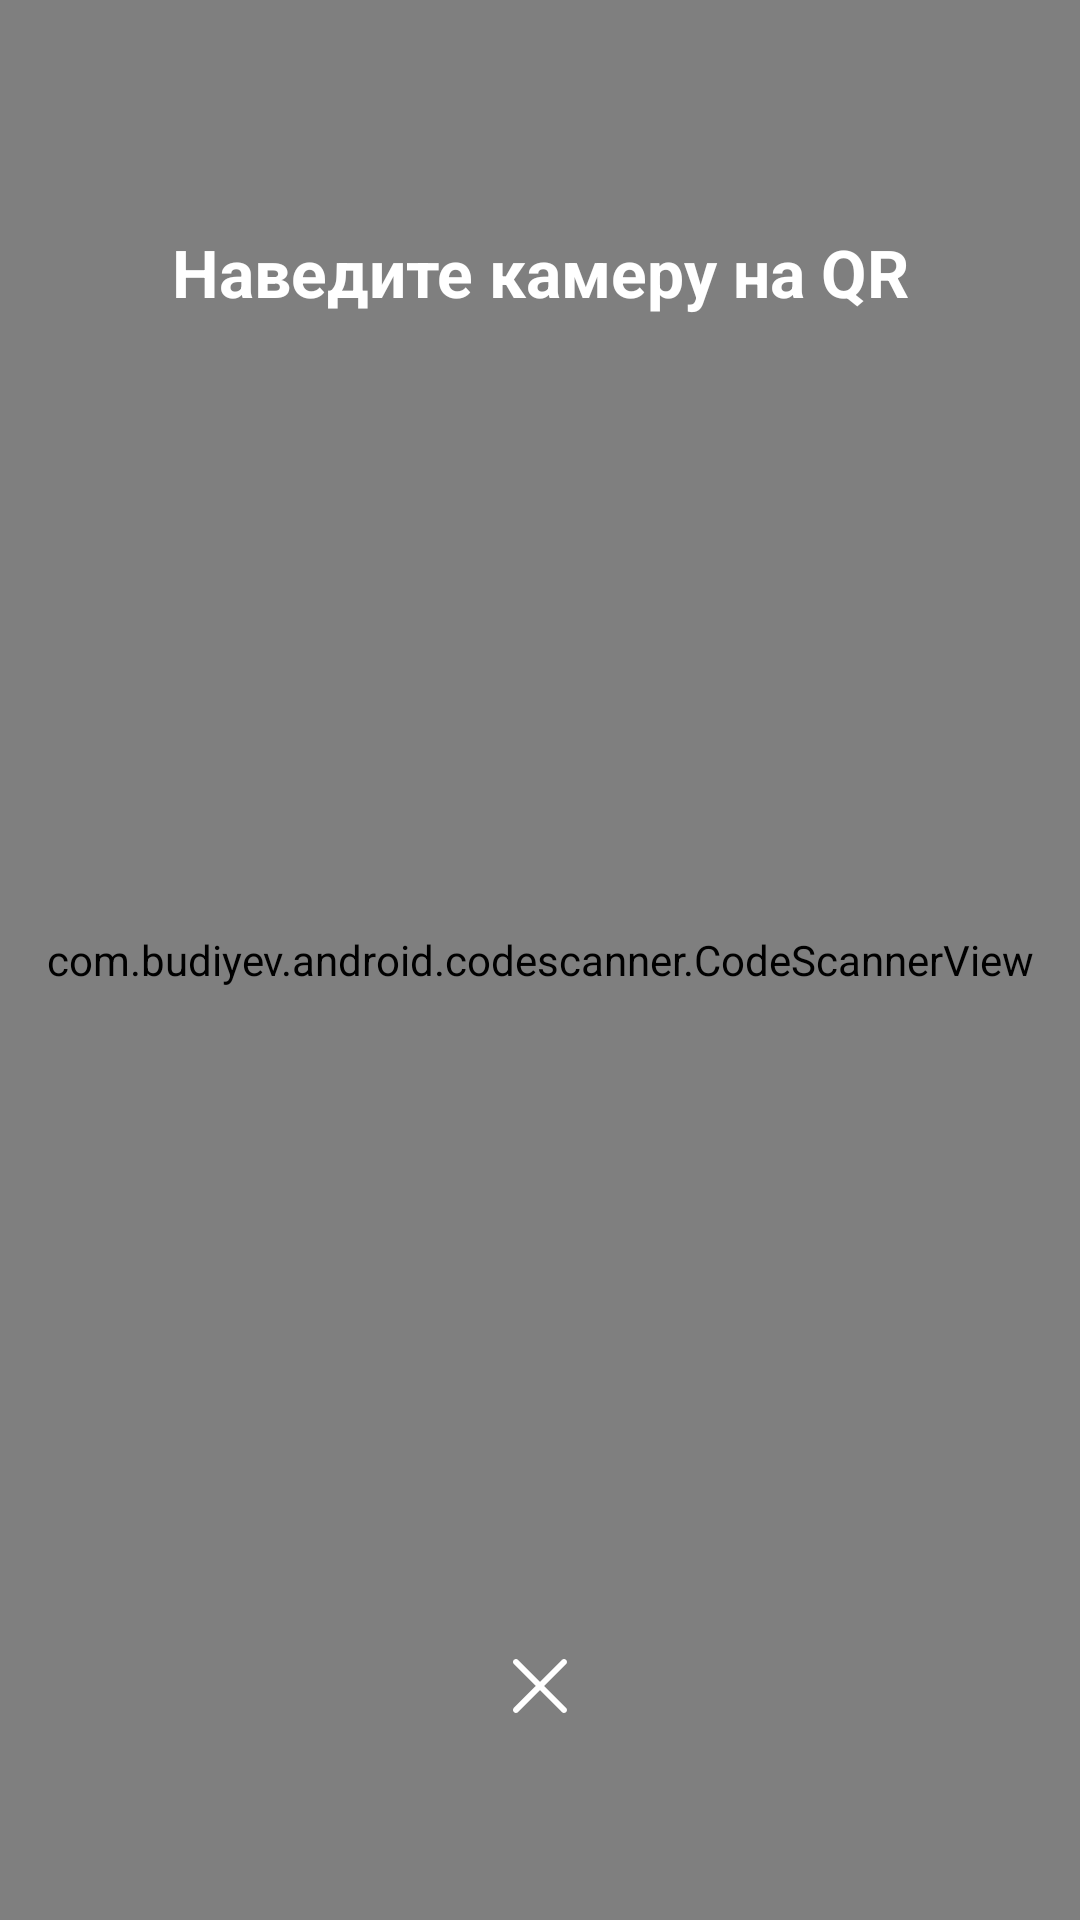

Point at icon controls on the screen. Image size 1080*1920, points as (x,y).
close: (540,1686)
